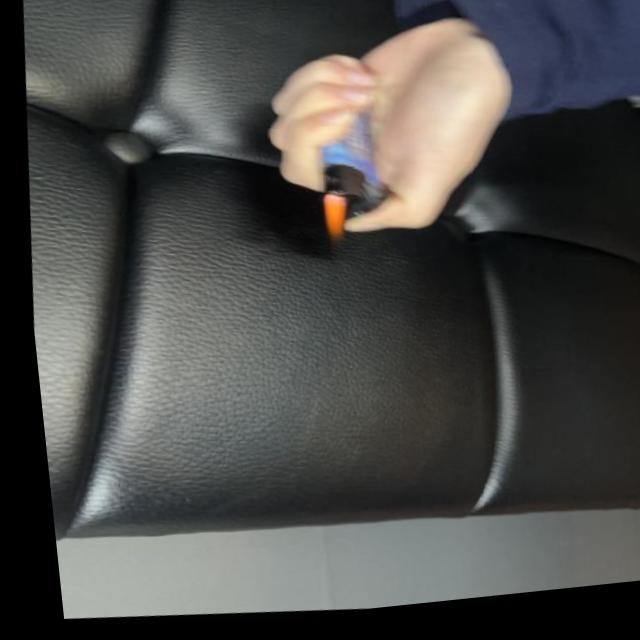Fire: (313, 195, 348, 249)
